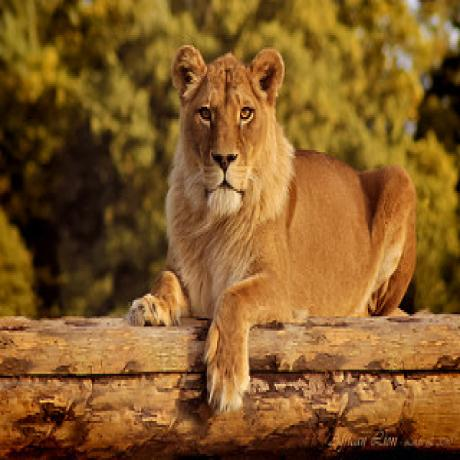Lion: (134, 41, 418, 412)
